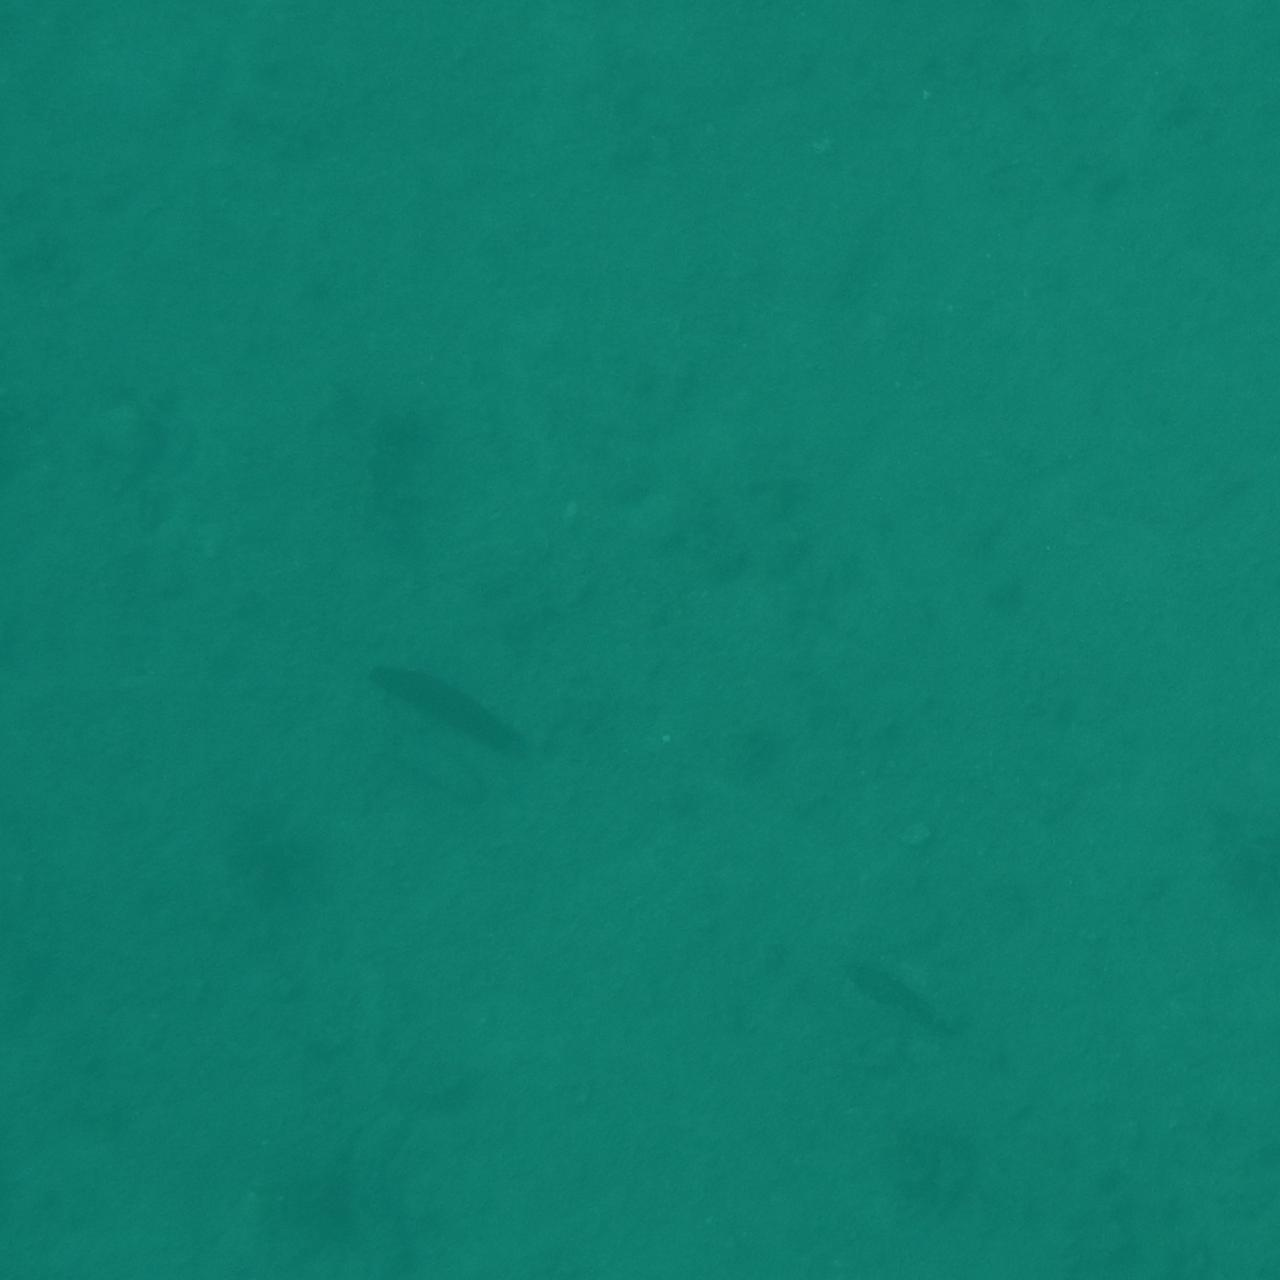Holothuria tubulosa: (336, 629, 549, 779), (1203, 0, 1280, 273), (821, 924, 980, 1056), (1155, 1131, 1280, 1280), (1191, 388, 1280, 586), (0, 0, 105, 147), (1200, 1077, 1280, 1268), (0, 531, 144, 633), (418, 0, 635, 62), (0, 0, 116, 115), (0, 1177, 116, 1280), (0, 0, 226, 53), (1073, 1179, 1182, 1280), (1162, 1200, 1280, 1280), (0, 1203, 120, 1280), (1133, 1220, 1280, 1280), (1238, 0, 1280, 195), (0, 1220, 123, 1280)
